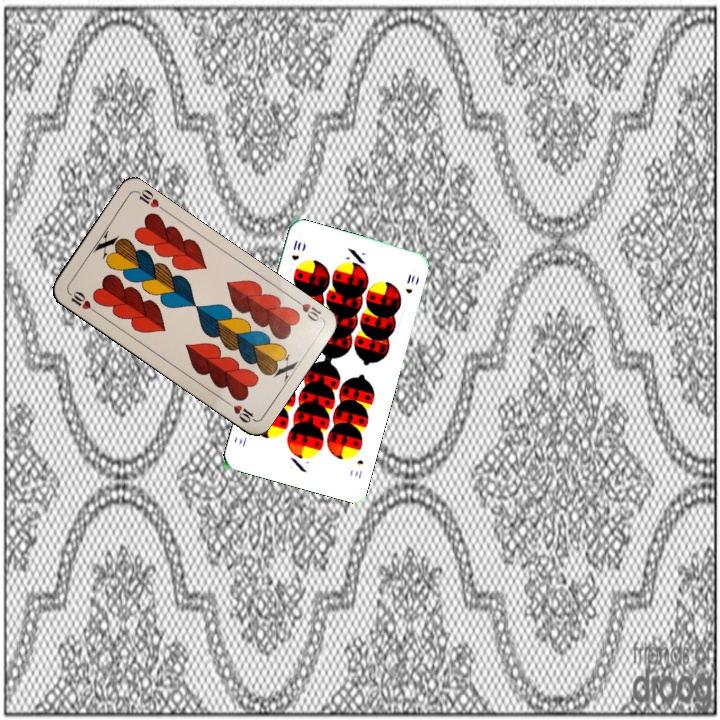H10: (289, 294, 325, 324), (64, 287, 100, 316)
S10: (287, 236, 304, 263), (350, 456, 366, 482)
